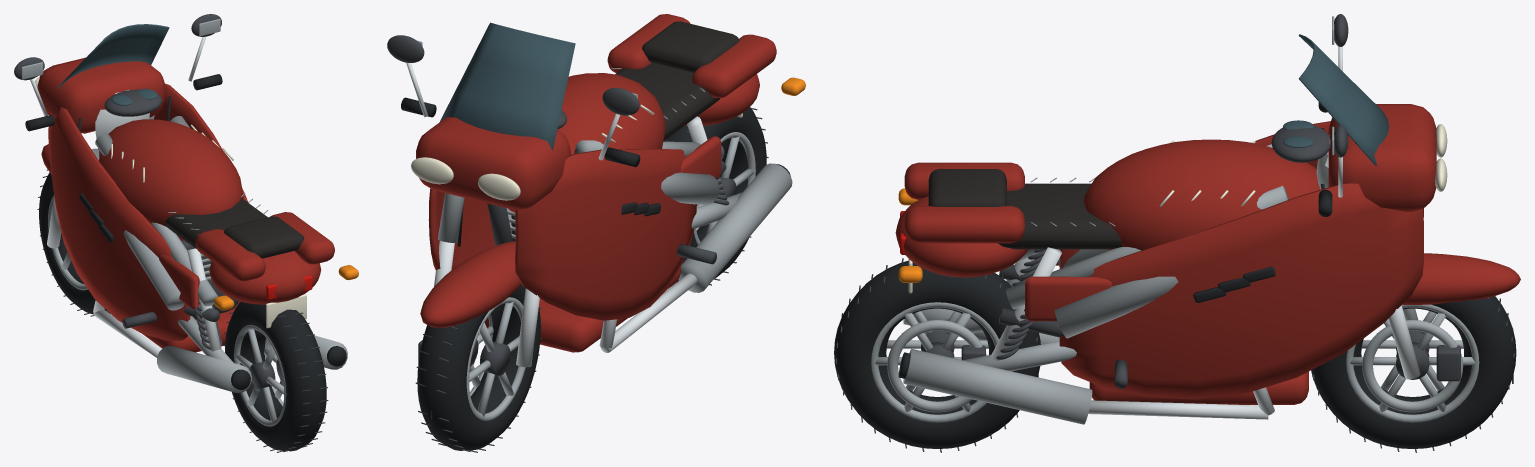
Rendered from phantom.glb.
3 renders of one model, left to right at view 1: azimuth 30°, elevation 25°; view 2: azimuth 150°, elevation 25°; view 3: azimuth 270°, elevation 25°, orthographic. The views are drawn at different scales.
Visible parts, largest first — view 1: Paint, Rubber.001, Brushed steel, Seat leather, Chrome, Engine, Glass, Brushed steel.001, Rubber.002, Rubber, Engine.001, Headlight (+2 smaller); view 2: Paint, Glass, Rubber.002, Brushed steel, Seat leather, Chrome, Engine, Brushed steel.002, Rubber.001, Headlight, Rubber, Engine.002 (+1 smaller); view 3: Paint, Brushed steel, Rubber.001, Rubber.002, Seat leather, Brushed steel.002, Chrome, Brushed steel.001, Engine, Glass, Rubber, Headlight (+2 smaller).
Part boxes in pixels (x1,y1,x2,y2): Paint: (37,57,334,352); Rubber.001: (225,301,326,451); Brushed steel: (21,18,347,392); Seat leather: (165,198,304,258); Chrome: (30,36,221,357); Engine: (14,14,238,349); Glass: (57,24,169,105); Brushed steel.001: (234,324,286,426); Rubber.002: (39,172,110,314); Rubber: (25,74,346,389); Engine.001: (223,300,328,452); Headlight: (35,76,306,328); Paint: (416,14,776,352); Glass: (440,22,575,150); Rubber.002: (417,285,540,450); Brushed steel: (417,40,792,292); Seat leather: (615,21,739,140); Chrome: (406,62,727,367); Engine: (387,35,729,363); Brushed steel.002: (466,297,525,420); Rubber.001: (663,107,766,281); Headlight: (411,104,742,200); Rubber: (401,97,790,246); Engine.002: (415,262,542,452); Paint: (895,104,1520,404); Brushed steel: (903,16,1334,424); Rubber.001: (834,260,1040,448); Rubber.002: (1311,296,1516,448); Seat leather: (928,169,1122,249); Brushed steel.002: (1346,304,1479,422); Chrome: (991,46,1420,419); Brushed steel.001: (871,302,999,422); Engine: (961,14,1460,388); Glass: (1283,34,1389,166); Rubber: (898,102,1332,378); Headlight: (908,124,1447,293).
Size of the model in its own units: 1.02 by 1.46 by 2.28.
